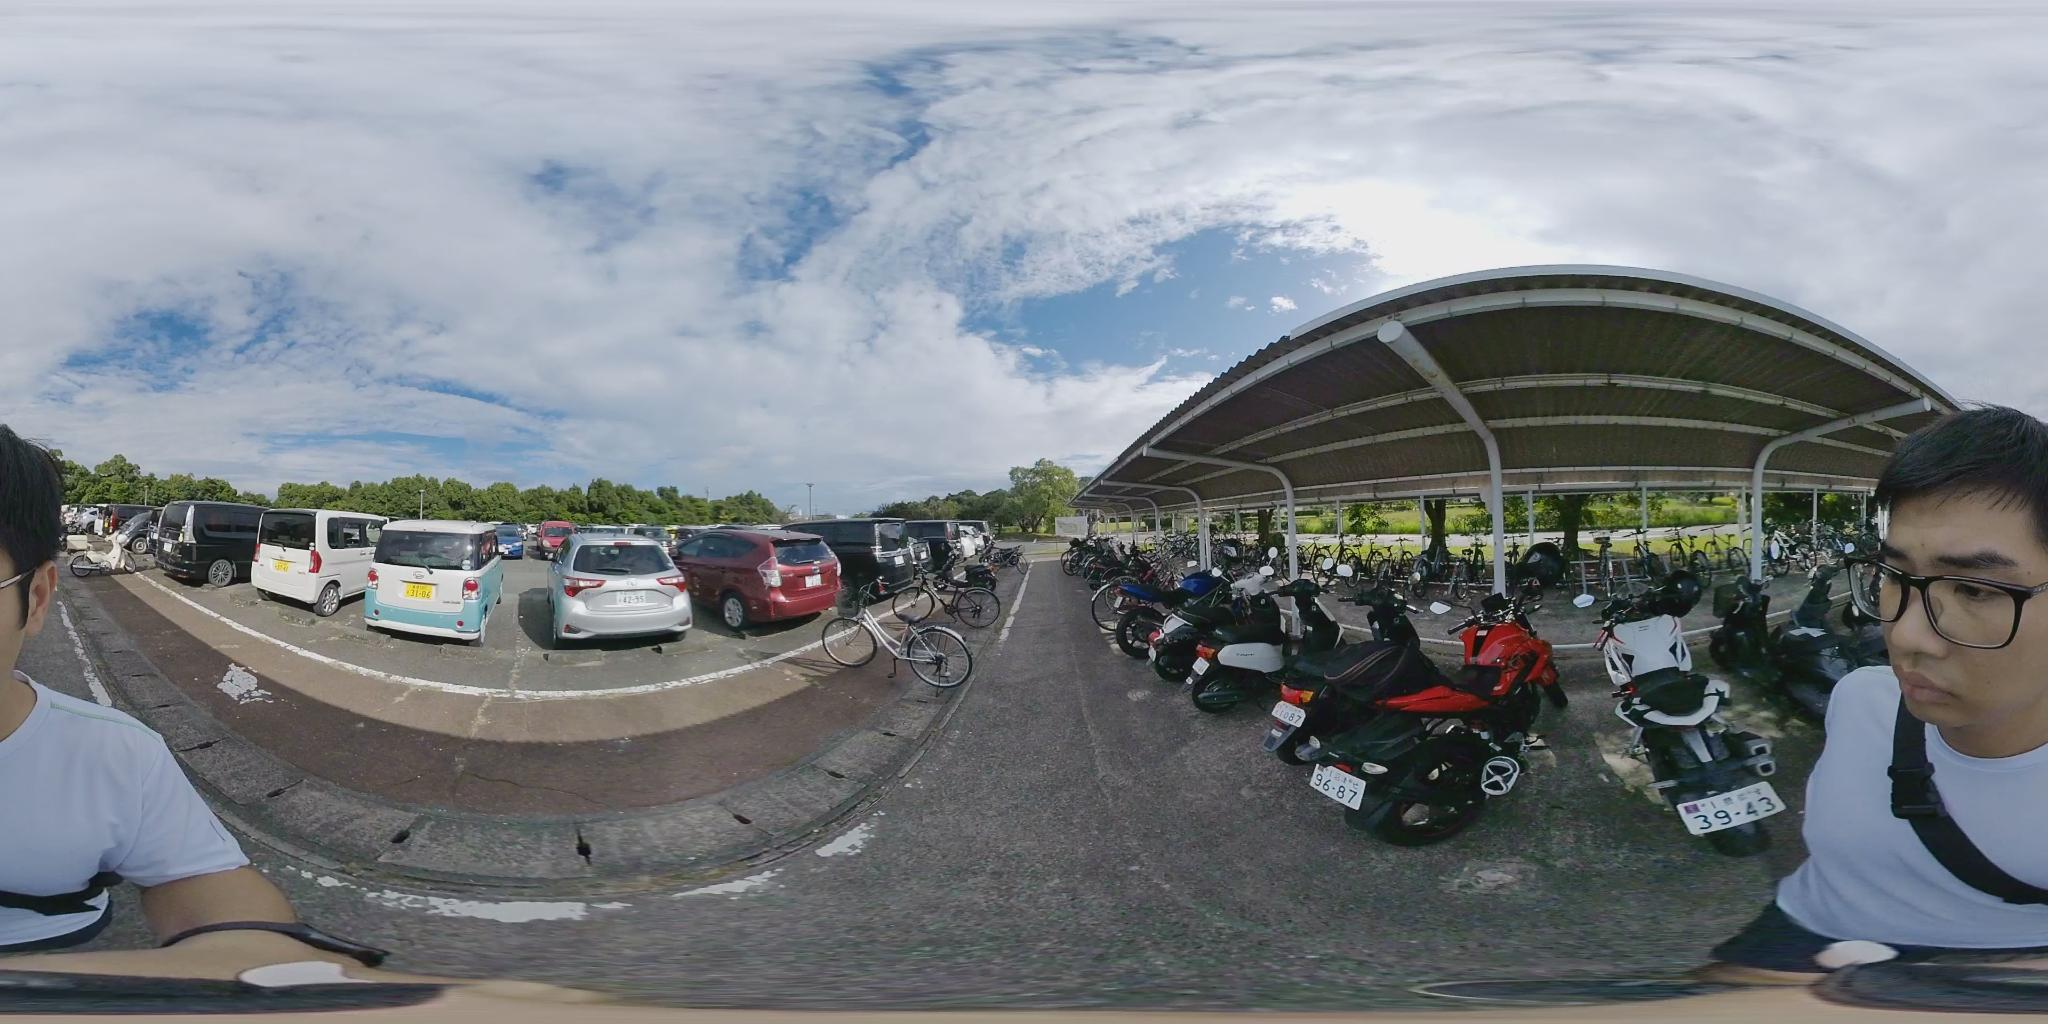car: (670, 529, 846, 636), (368, 520, 494, 647), (255, 508, 398, 618), (545, 537, 687, 645), (153, 503, 270, 584)
